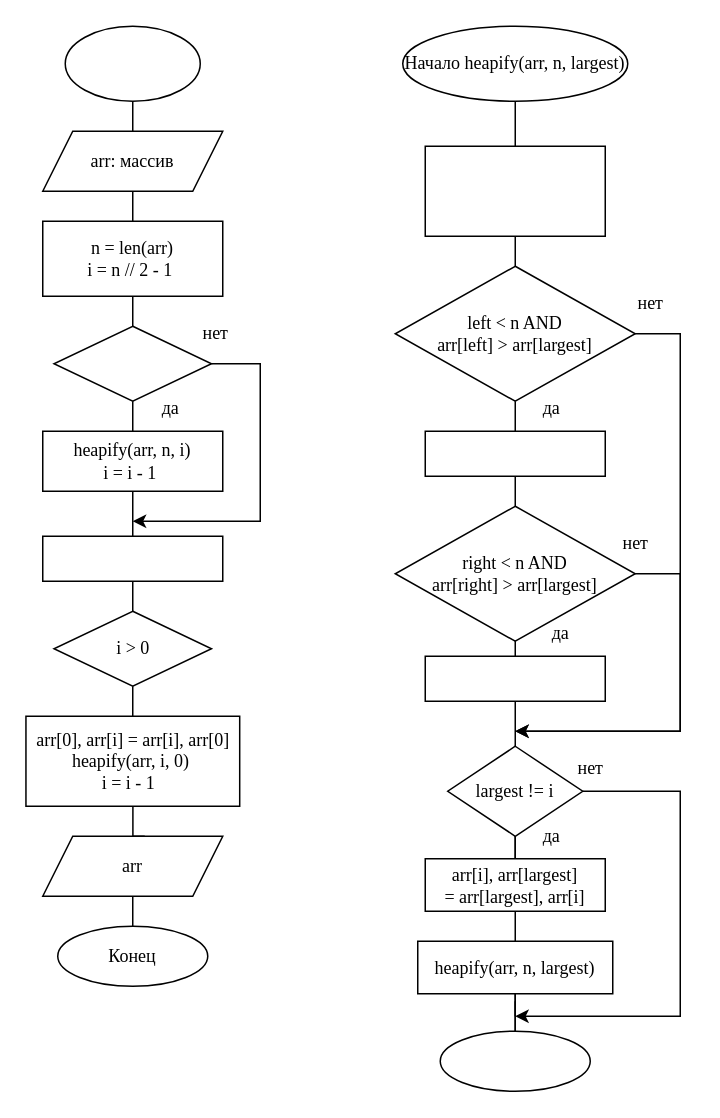
Some shapes in this 720 by 1118 pixel diagram are drawn without their labels. The shapes that lost their labels are listed below. From the top down, each one's box as (x1, y1, x2, y2) in pixels, then its label:
(64, 25, 200, 101): Начало
(424, 145, 605, 236): largest = i left = 2 * i + 1 right = 2 * i + 2
(52, 325, 212, 401): i >= 0
(424, 430, 605, 476): largest = left
(41, 535, 223, 581): i = n - 1
(424, 655, 605, 701): largest = right
(439, 1030, 590, 1091): Конец heapify
